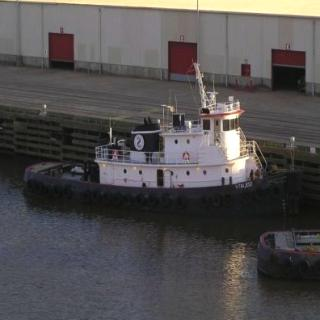Tug Boat: (39, 68, 284, 208)
